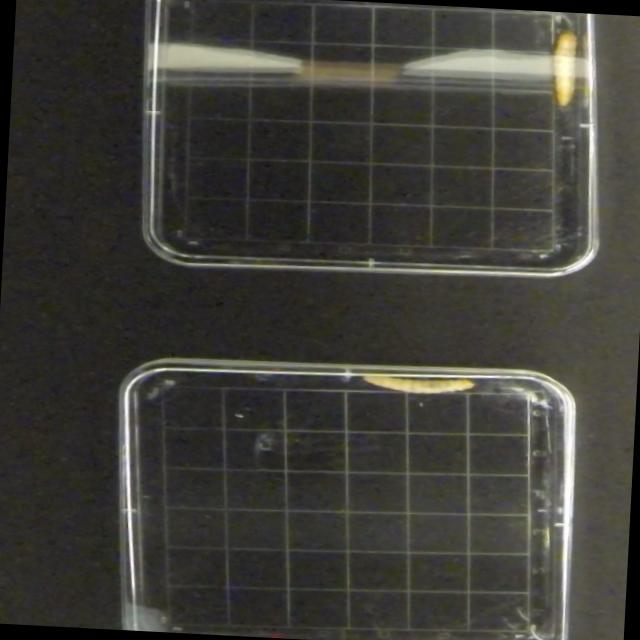larva: (546, 29, 585, 108), (362, 372, 478, 398)
